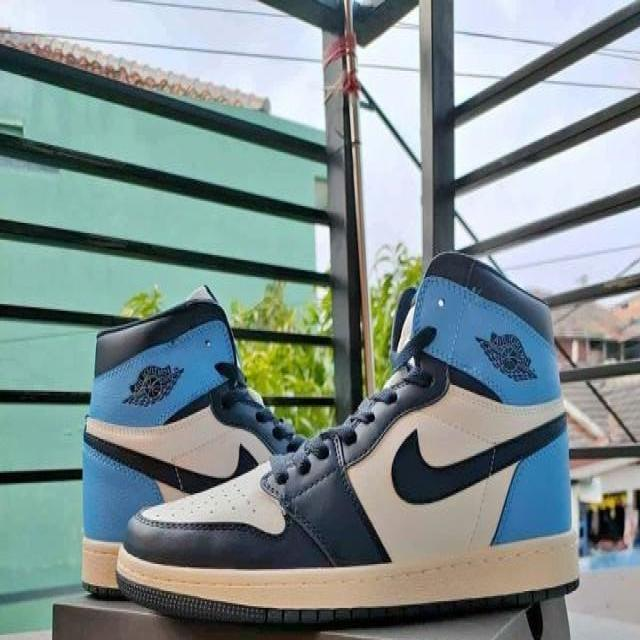J1_MateComp: (113, 249, 581, 627), (79, 284, 307, 599)
J1_ShoeLogo: (473, 329, 538, 382), (121, 362, 184, 407), (119, 284, 164, 320)
J1_StitchPattern: (136, 353, 440, 536), (114, 571, 580, 627), (80, 423, 288, 537), (265, 360, 430, 492), (296, 376, 412, 465), (81, 427, 226, 494), (136, 478, 287, 536), (342, 376, 410, 432), (275, 434, 334, 482), (351, 387, 395, 425), (293, 436, 330, 470)
